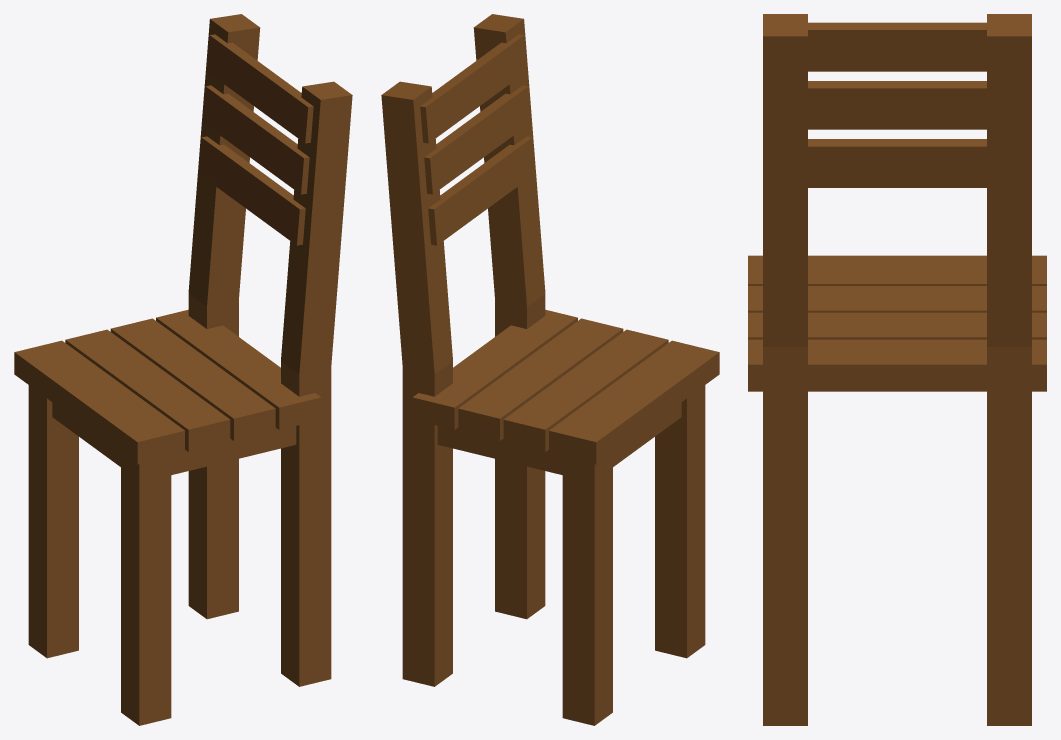
File: Chair.001.fbx
3 views of the same model, side by side, from view 1: azimuth 30°, elevation 25°; view 2: azimuth 150°, elevation 25°; view 3: azimuth 270°, elevation 25° (orthographic). The views are drawn at different scales.
Visible parts, largest first — view 1: Chair.001; view 2: Chair.001; view 3: Chair.001.
Part boxes in pixels (x1=…): Chair.001: x1=14, y1=14, x2=352, y2=725; Chair.001: x1=381, y1=14, x2=719, y2=725; Chair.001: x1=748, y1=14, x2=1046, y2=725.
Size of the model in its own units: 0.4149 by 1.04 by 0.4.
